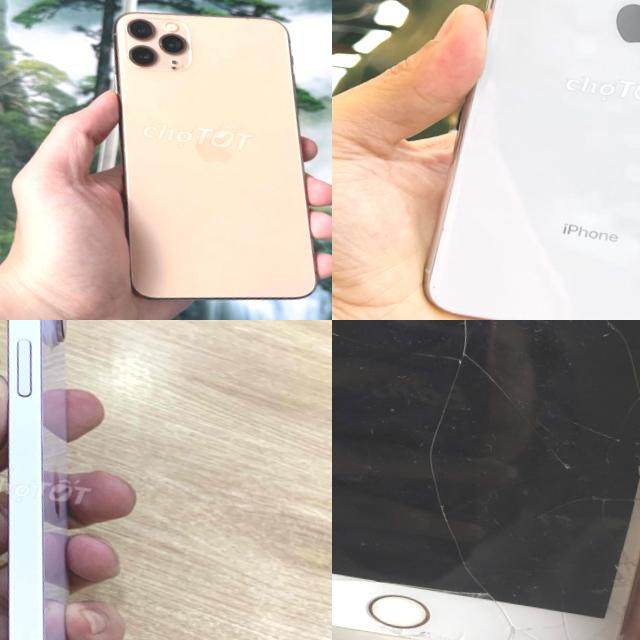physical_damage: (432, 502, 464, 550), (579, 424, 640, 448), (611, 548, 639, 590), (332, 567, 379, 592), (417, 627, 501, 640), (579, 617, 625, 640), (449, 332, 476, 368), (423, 448, 443, 491), (556, 610, 582, 640), (458, 560, 488, 586), (430, 406, 447, 444), (495, 624, 525, 640), (380, 626, 414, 640), (633, 446, 640, 507), (452, 587, 489, 598), (583, 320, 621, 330), (606, 601, 626, 619), (332, 320, 345, 347), (552, 452, 570, 471), (452, 367, 461, 405), (456, 320, 473, 333), (510, 397, 530, 408), (493, 381, 509, 394), (483, 368, 496, 380)
scratch: (170, 61, 187, 72), (240, 17, 255, 23)
